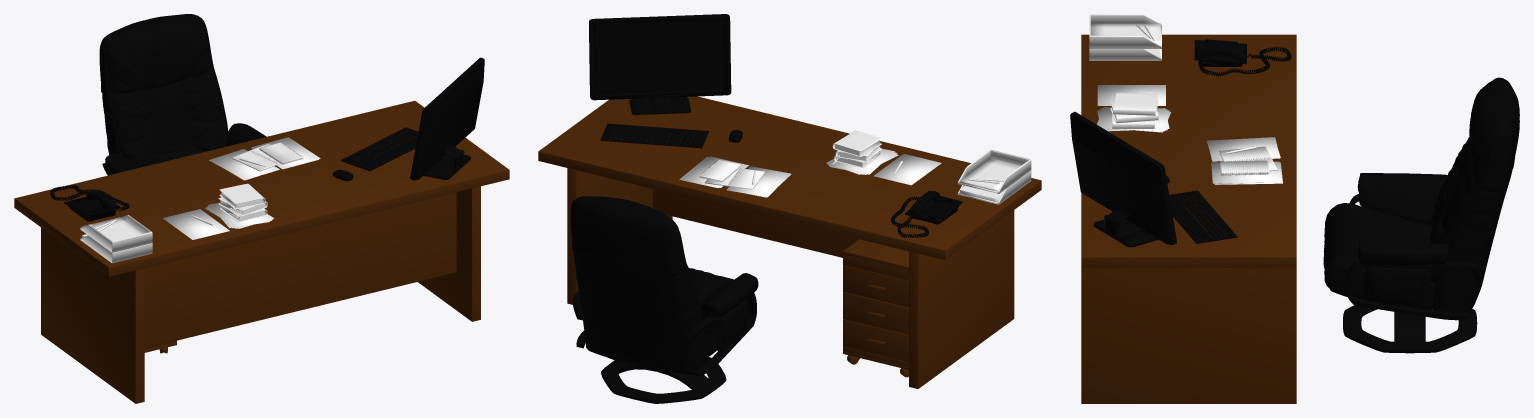
The model's file is office_desk.glb.
The picture shows the model from 3 angles, left to right: view 1: azimuth 30°, elevation 25°; view 2: azimuth 150°, elevation 25°; view 3: azimuth 270°, elevation 25°; orthographic projection. The views are drawn at different scales.
Parts seen in each view (by area): view 1: Object_40, Object_22, Object_2, Object_29, Object_25, Object_30, Object_19, Object_23, Object_3, Object_14, Object_18; view 2: Object_40, Object_22, Object_2, Object_23, Object_29, Object_25, Object_30, Object_21, Object_19, Object_24, Object_3, Object_18 (+2 smaller); view 3: Object_40, Object_22, Object_23, Object_2, Object_24, Object_29, Object_25, Object_30, Object_21, Object_19, Object_3, Object_14 (+2 smaller).
Part boxes in pixels (x1,y1,x2,y2): Object_40: [14, 100, 509, 403]; Object_22: [99, 14, 228, 167]; Object_2: [410, 57, 484, 180]; Object_29: [80, 142, 302, 263]; Object_25: [95, 137, 320, 228]; Object_30: [82, 202, 274, 239]; Object_19: [340, 127, 418, 171]; Object_23: [105, 123, 266, 174]; Object_3: [423, 143, 470, 179]; Object_14: [64, 191, 120, 221]; Object_18: [348, 129, 417, 164]; Object_40: [538, 96, 1041, 388]; Object_22: [570, 196, 708, 374]; Object_2: [589, 14, 731, 100]; Object_23: [576, 273, 758, 403]; Object_29: [700, 141, 1031, 204]; Object_25: [679, 130, 1003, 202]; Object_30: [826, 148, 1030, 202]; Object_21: [572, 291, 756, 376]; Object_19: [600, 123, 708, 148]; Object_24: [689, 268, 748, 357]; Object_3: [629, 97, 690, 114]; Object_18: [607, 124, 701, 143]; Object_40: [1081, 34, 1296, 403]; Object_22: [1429, 77, 1519, 312]; Object_23: [1343, 173, 1477, 353]; Object_2: [1070, 111, 1176, 244]; Object_24: [1323, 203, 1434, 309]; Object_29: [1089, 14, 1269, 175]; Object_25: [1113, 24, 1282, 184]; Object_30: [1089, 14, 1170, 132]; Object_21: [1345, 194, 1480, 320]; Object_19: [1169, 190, 1237, 243]; Object_3: [1093, 206, 1158, 247]; Object_14: [1194, 40, 1246, 66].
Size of the model in its own units: 90.15 by 48.09 by 75.16.
